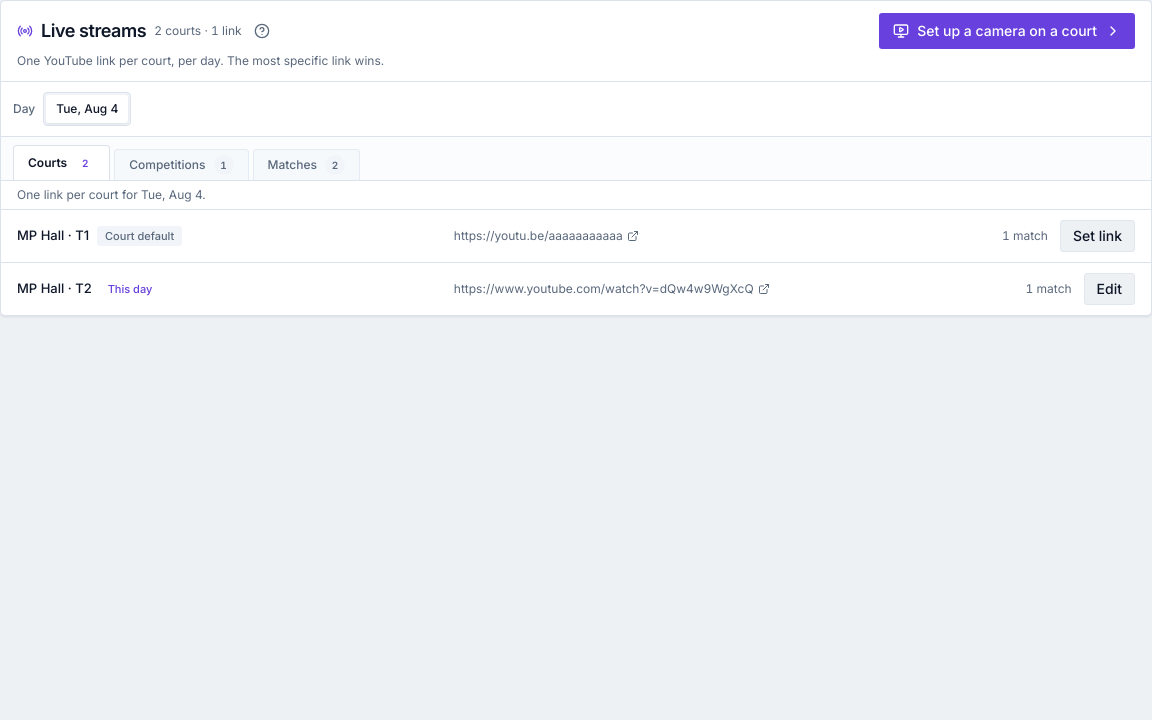
Scenario: StreamLinksPage › no editor is open until a row asks for one
Click the button "Tue, Aug 4". click: (87, 109)
box: [46,95,128,123]
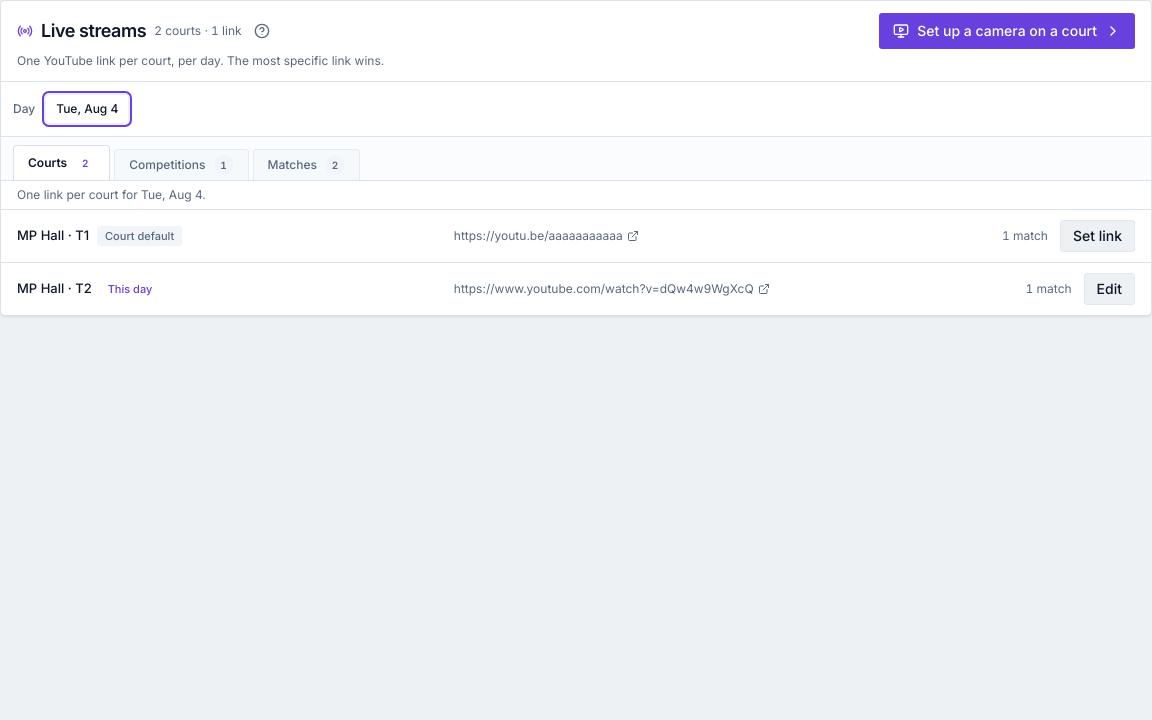
Click the button "Set link". click: (1097, 236)
box: [1060,220,1135,252]
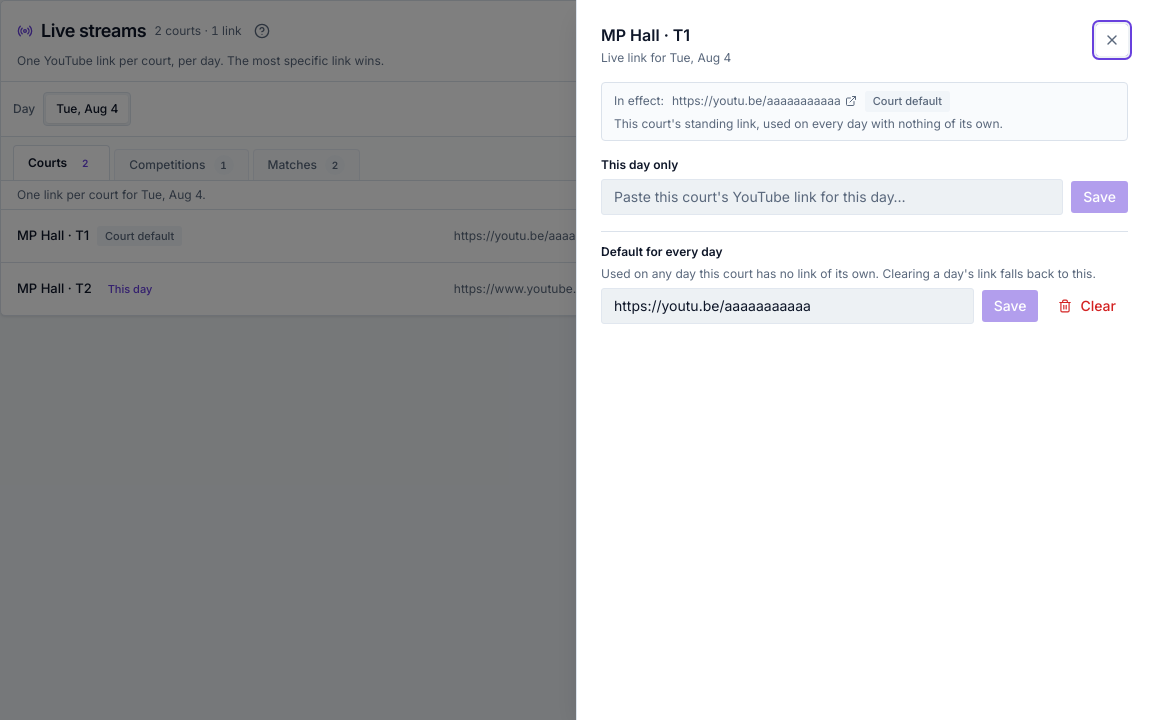
Check: the element with test id "stream-edit-dialog" is shown, box [601,24,1128,324]
Click the button with test id "stream-edit-close". click: (1112, 40)
box: [1096,24,1128,56]
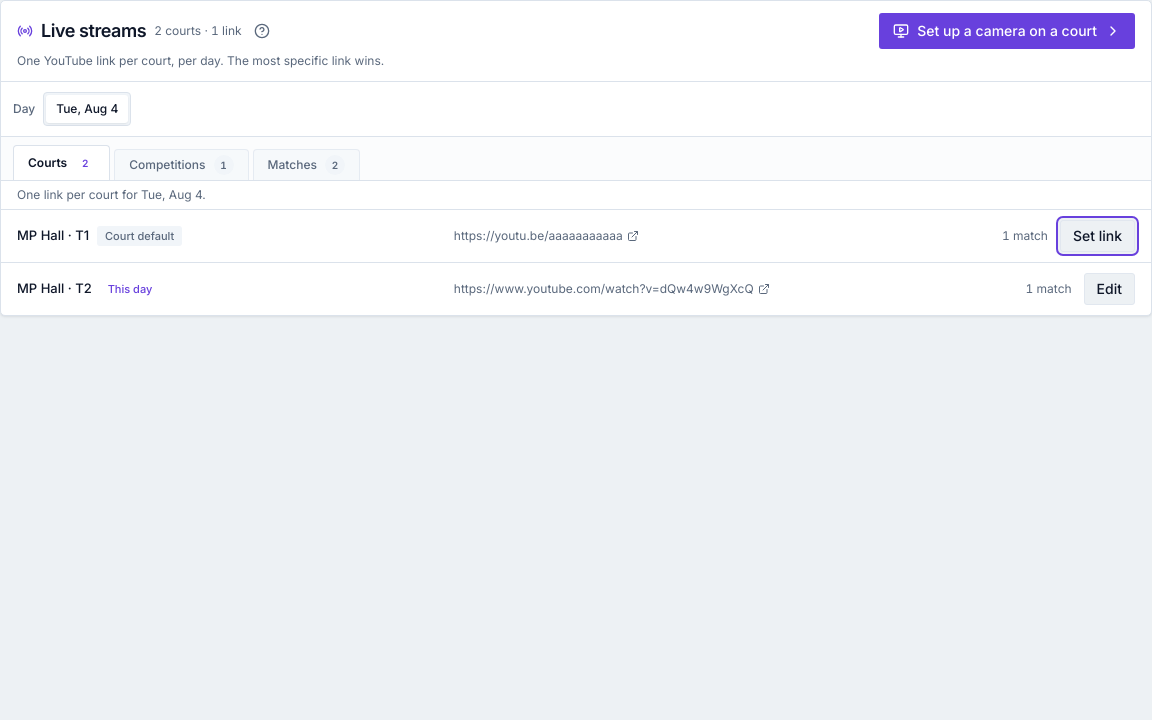
Check: the element with test id "stream-edit-dialog" is gone
